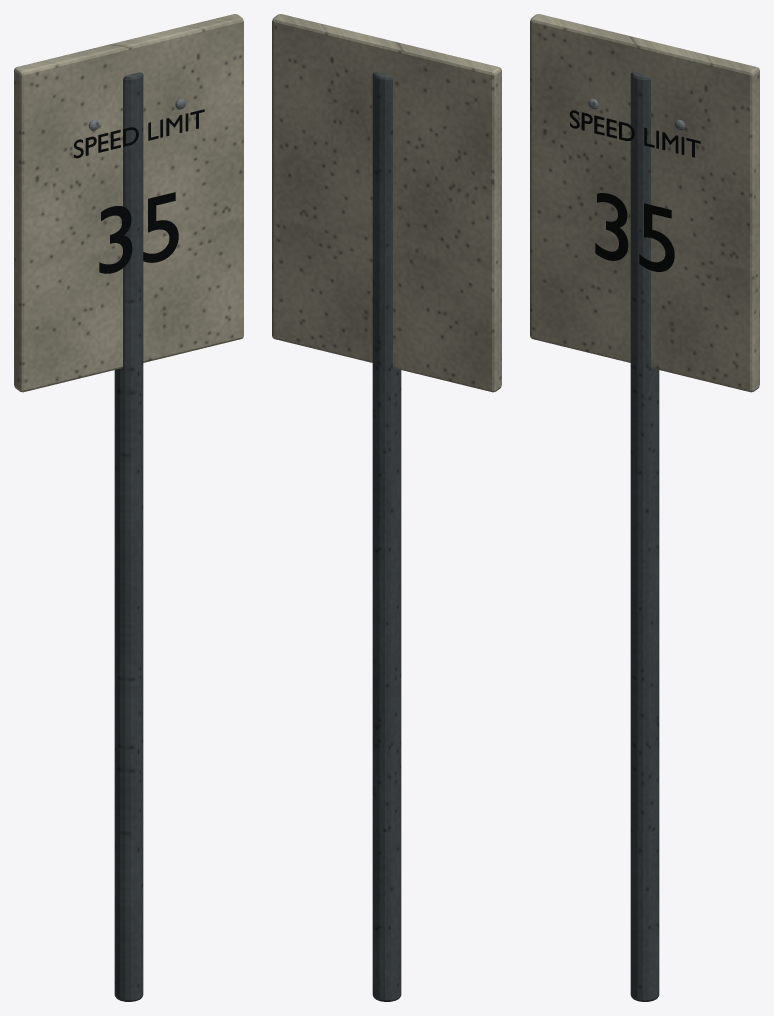
Rendered from PROP-44C775E16189_lod0.glb.
The picture shows the model from 3 angles, left to right: view 1: azimuth 30°, elevation 25°; view 2: azimuth 150°, elevation 25°; view 3: azimuth 330°, elevation 25°; orthographic projection.
Parts seen in each view (by area): view 1: sign_plate.018, sign_post.025, sign_letters_35, sign_letters_SPEED LIMIT.001; view 2: sign_plate.018, sign_post.025; view 3: sign_plate.018, sign_post.025, sign_letters_35, sign_letters_SPEED LIMIT.001.
Part boxes in pixels (<box>): sign_plate.018: <box>14,14,243,392</box>; sign_post.025: <box>114,72,143,1001</box>; sign_letters_35: <box>99,192,178,273</box>; sign_letters_SPEED LIMIT.001: <box>73,109,204,158</box>; sign_plate.018: <box>272,14,501,392</box>; sign_post.025: <box>372,72,401,1001</box>; sign_plate.018: <box>530,14,759,392</box>; sign_post.025: <box>630,72,659,1001</box>; sign_letters_35: <box>595,193,674,271</box>; sign_letters_SPEED LIMIT.001: <box>569,110,700,157</box>.
Bounding box in the file's own units: 0.62 × 2.52 × 0.084.
Materials: 4 (4 with a texture image).
